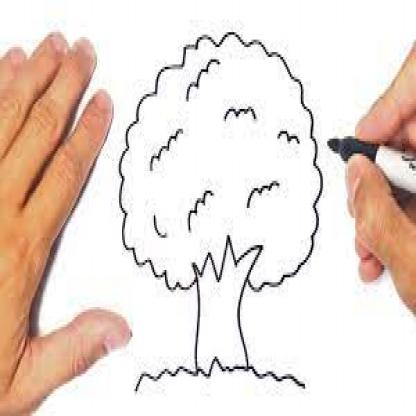branch_sharp: (192, 235, 262, 294)
crown_cloud: (120, 36, 322, 292)
root_none: (159, 340, 285, 406)
trunk_straight: (194, 285, 248, 362)
